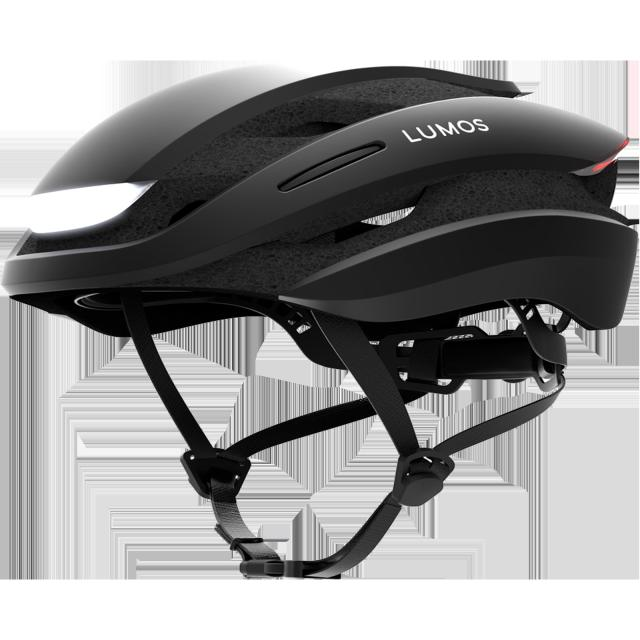Helmet: (5, 9, 633, 596)
